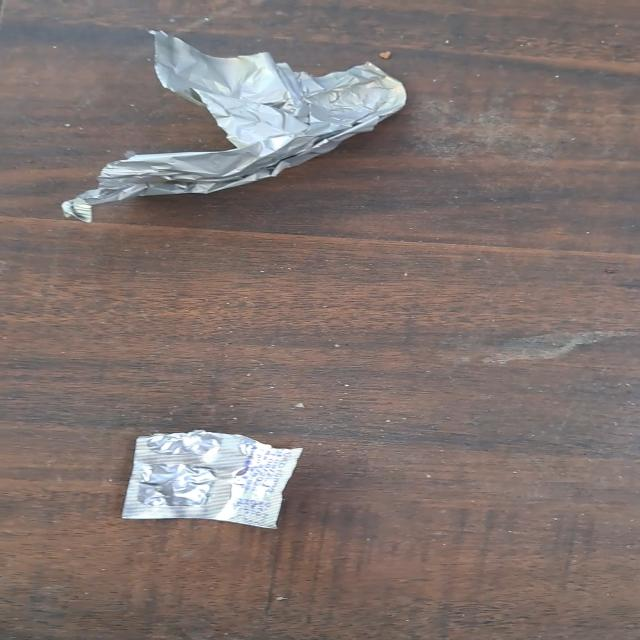Anorganik: (54, 30, 414, 222), (116, 427, 307, 530)
